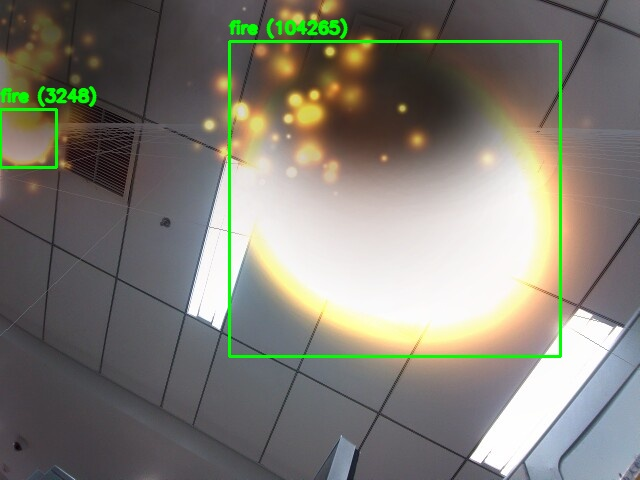fire: (229, 41, 560, 356), (0, 109, 56, 167)
